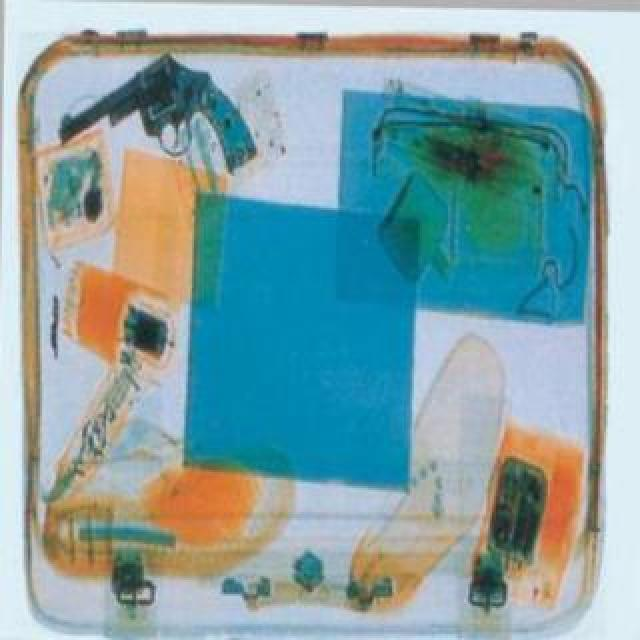gun: (54, 50, 258, 176)
